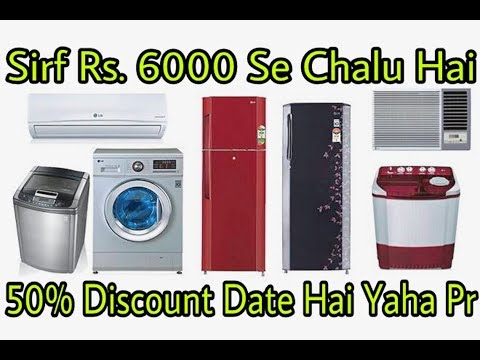AC: (29, 92, 164, 137)
Refrigerator: (283, 108, 352, 270), (204, 99, 264, 271)
